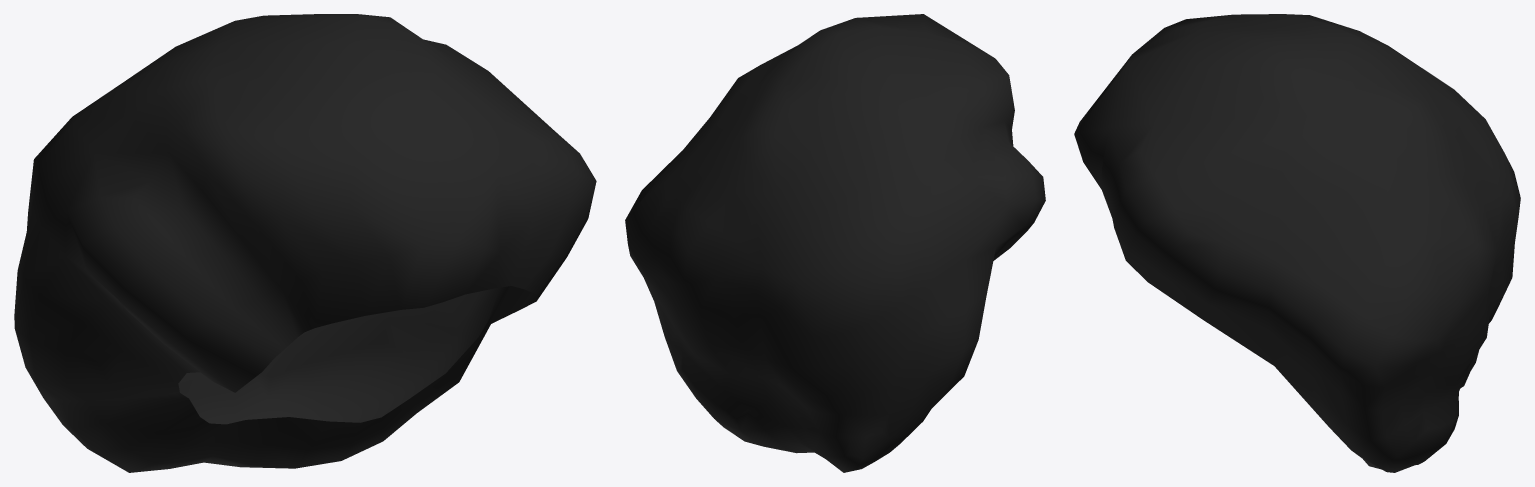
The model's file is Hair_023.glb.
3 renders of one model, left to right at view 1: azimuth 30°, elevation 25°; view 2: azimuth 150°, elevation 25°; view 3: azimuth 270°, elevation 25°, orthographic. The views are drawn at different scales.
Parts seen in each view (by area): view 1: Hair_023; view 2: Hair_023; view 3: Hair_023.
Part boxes in pixels (x1,y1,x2,y2): Hair_023: (14, 14, 596, 472); Hair_023: (625, 14, 1045, 472); Hair_023: (1074, 14, 1520, 472).
Bounding box in the file's own units: 0.4923 × 0.4741 × 0.4716.
1 material, 1 textured.
